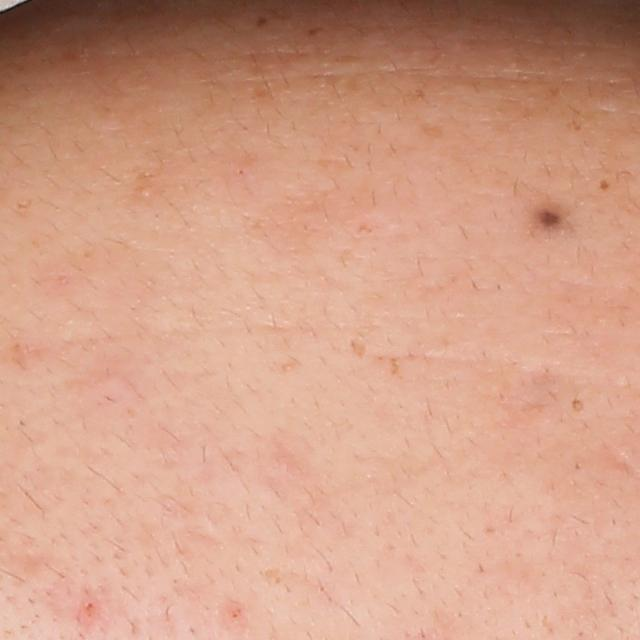atrophic_scar: (600, 439, 639, 483), (350, 336, 367, 360)
comedo: (568, 397, 588, 416), (596, 175, 614, 194)
nevus: (533, 203, 564, 230)
